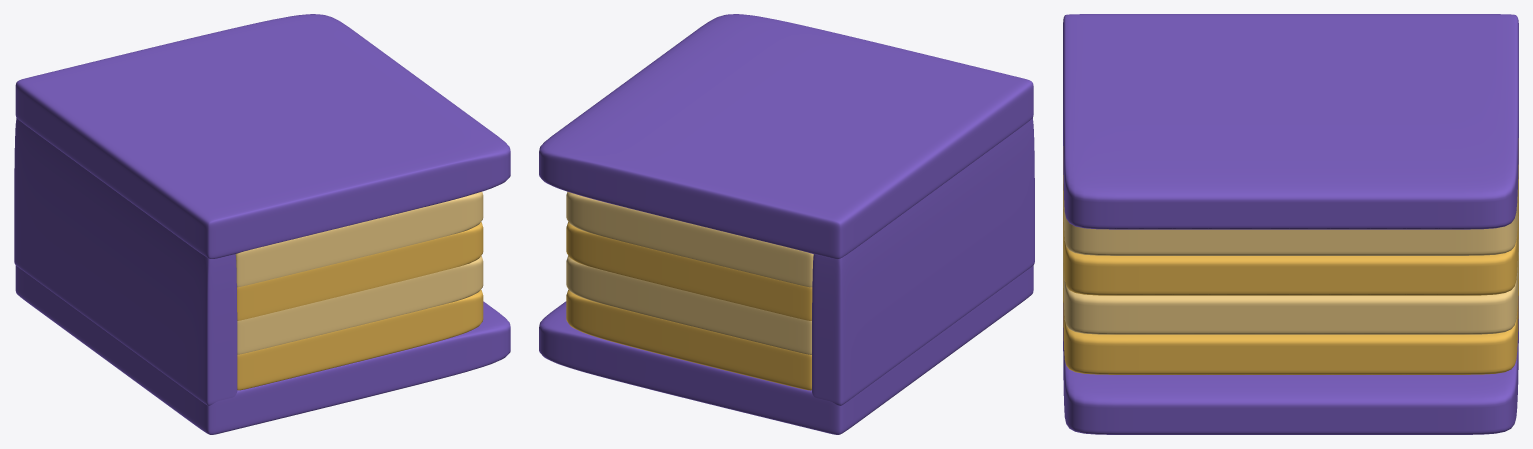
Rendered from папка12.fbx.
3 views of the same model, side by side, from view 1: azimuth 30°, elevation 25°; view 2: azimuth 150°, elevation 25°; view 3: azimuth 270°, elevation 25° (orthographic). The views are drawn at different scales.
Visible parts, largest first — view 1: Cube_2; view 2: Cube_2; view 3: Cube_2.
Boxes of the visible parts, <box> form: Cube_2: <box>14,14,510,434</box>; Cube_2: <box>539,14,1034,434</box>; Cube_2: <box>1063,14,1518,434</box>.
Size of the model in its own units: 141 by 92.42 by 151.
